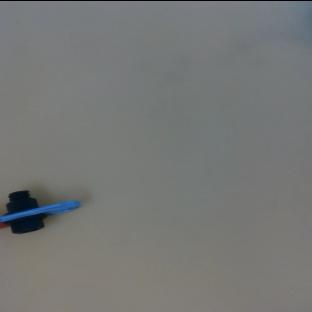part_1_good: (0, 187, 82, 233)
